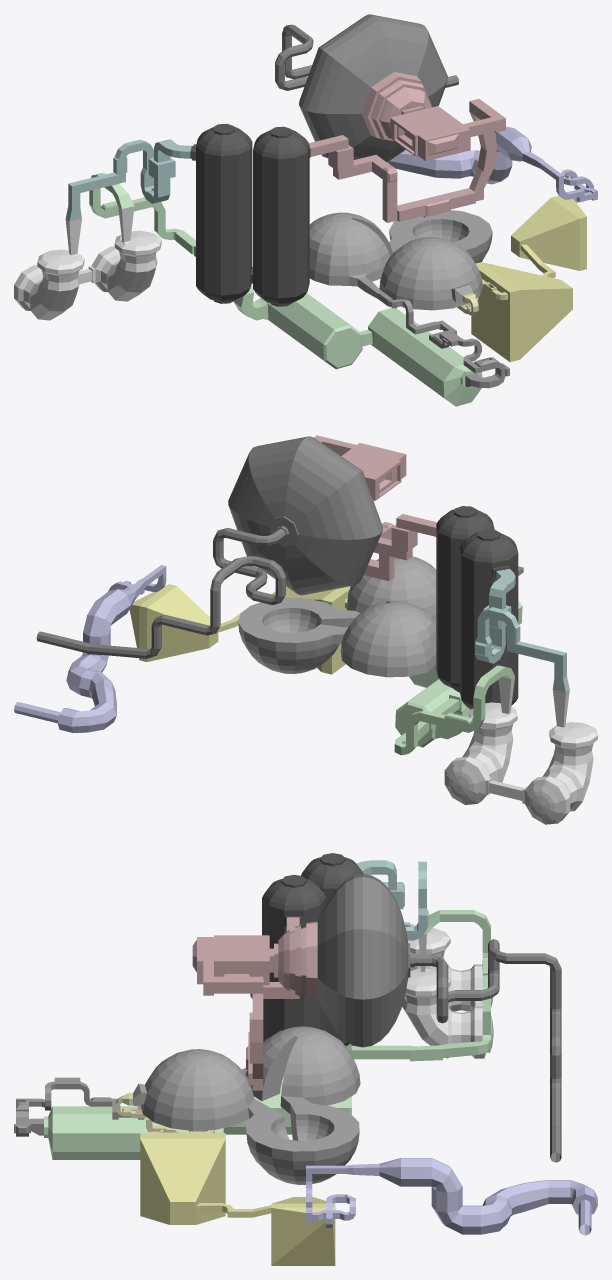
Rendered from Sketch6.6.fbx.
3 renders of one model, top to bottom at view 1: azimuth 30°, elevation 25°; view 2: azimuth 150°, elevation 25°; view 3: azimuth 270°, elevation 25°, orthographic. The views are drawn at different scales.
Parts seen in each view (by area): view 1: 2-Capacitor, 5-Breeder, 1-Reactor, 6-Relay, 1-ReactorTunnel, 4-Injectors, 3-Control, 2-CapacitorTunnel, 7-Cooler, 1-ReactorEntrance, 4-InjectorsTunnel, 3-ControlTunnel (+3 smaller); view 2: 1-Reactor, 5-Breeder, 2-Capacitor, 3-Control, 0-EscapeTunnel, 7-Cooler, 6-Relay, 1-ReactorTunnel, 2-CapacitorTunnel, 3-ControlTunnel, 4-Injectors, 6-RelayTunnel; view 3: 5-Breeder, 1-Reactor, 6-Relay, 7-Cooler, 2-Capacitor, 1-ReactorTunnel, 4-Injectors, 3-Control, 0-EscapeTunnel, 3-ControlTunnel, 1-ReactorEntrance, 4-InjectorsTunnel (+3 smaller).
Boxes of the visible parts, x1,y1,x2,y2 form: 2-Capacitor: (190, 124, 310, 306); 5-Breeder: (309, 210, 492, 310); 1-Reactor: (299, 14, 447, 162); 6-Relay: (471, 196, 586, 361); 1-ReactorTunnel: (309, 99, 505, 222); 4-Injectors: (256, 293, 482, 406); 3-Control: (14, 206, 161, 320); 2-CapacitorTunnel: (65, 139, 191, 221); 7-Cooler: (387, 126, 554, 184); 1-ReactorEntrance: (361, 72, 431, 141); 4-InjectorsTunnel: (378, 292, 509, 388); 3-ControlTunnel: (89, 173, 262, 320); 1-Reactor: (228, 436, 382, 595); 5-Breeder: (238, 556, 436, 677); 2-Capacitor: (436, 506, 518, 709); 3-Control: (444, 677, 597, 824); 0-EscapeTunnel: (36, 516, 298, 658); 7-Cooler: (14, 571, 157, 733); 6-Relay: (129, 584, 350, 674); 1-ReactorTunnel: (314, 435, 437, 580); 2-CapacitorTunnel: (475, 569, 569, 692); 3-ControlTunnel: (394, 665, 514, 755); 4-Injectors: (395, 600, 522, 747); 6-RelayTunnel: (105, 565, 166, 594); 5-Breeder: (133, 1026, 360, 1184); 1-Reactor: (317, 874, 408, 1047); 6-Relay: (140, 1133, 335, 1265); 7-Cooler: (325, 1158, 597, 1235); 2-Capacitor: (262, 853, 363, 1046); 1-ReactorTunnel: (192, 917, 299, 1090); 4-Injectors: (44, 1081, 351, 1159); 3-Control: (402, 928, 493, 1058); 0-EscapeTunnel: (408, 939, 561, 1162); 3-ControlTunnel: (346, 910, 490, 1061); 1-ReactorEntrance: (278, 921, 317, 999); 4-InjectorsTunnel: (14, 1077, 144, 1136).
Bounding box in the file's own units: 3058 × 1620 × 2730.
